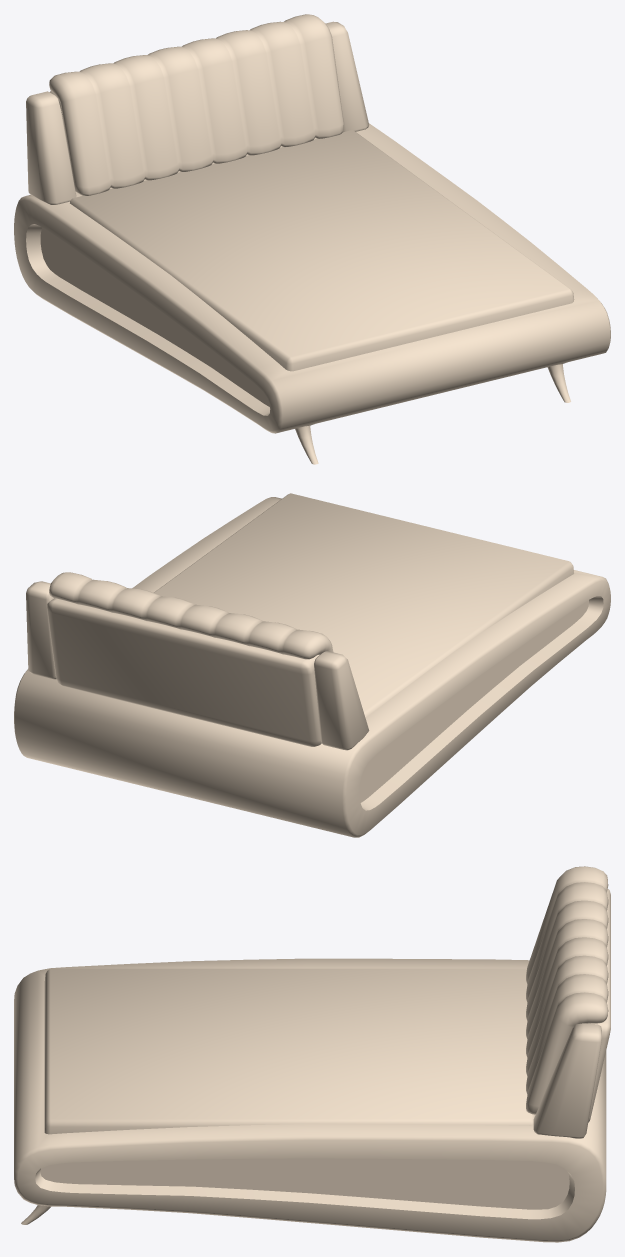
File: SM_Bed_01a.fbx
The picture shows the model from 3 angles, top to bottom: view 1: azimuth 30°, elevation 25°; view 2: azimuth 150°, elevation 25°; view 3: azimuth 270°, elevation 25°; orthographic projection. The views are drawn at different scales.
Visible parts, largest first — view 1: SM_Bed_01a; view 2: SM_Bed_01a; view 3: SM_Bed_01a.
Boxes of the visible parts, x1,y1,x2,y2 form: SM_Bed_01a: (14,14,610,464); SM_Bed_01a: (14,493,610,837); SM_Bed_01a: (14,866,610,1242).
Bounding box in the file's own units: 175 × 101 × 246.
